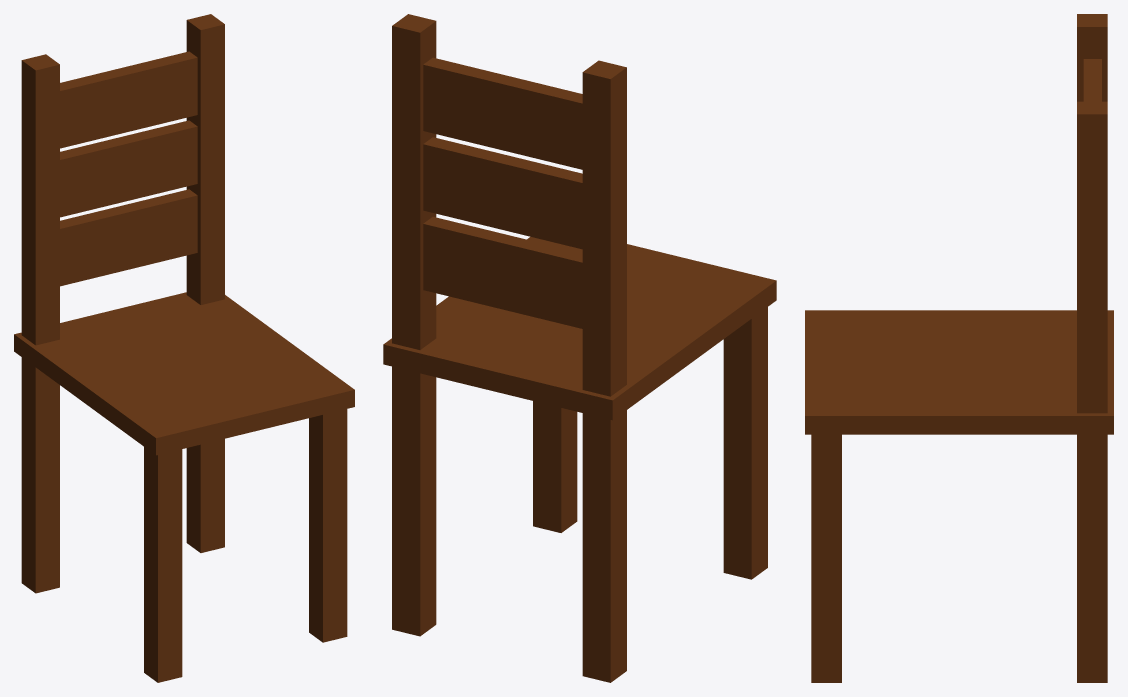
Rendered from chairs.fbx.
The picture shows the model from 3 angles, left to right: view 1: azimuth 30°, elevation 25°; view 2: azimuth 150°, elevation 25°; view 3: azimuth 270°, elevation 25°; orthographic projection. The views are drawn at different scales.
Visible parts, largest first — view 1: Cube; view 2: Cube; view 3: Cube.
Part boxes in pixels (box(x1,y1,x2,y2)): Cube: box(14, 14, 354, 682); Cube: box(383, 14, 776, 682); Cube: box(805, 14, 1113, 682).
Size of what is drawn, in the model's own units: 0.3829 by 0.9629 by 0.4738.
